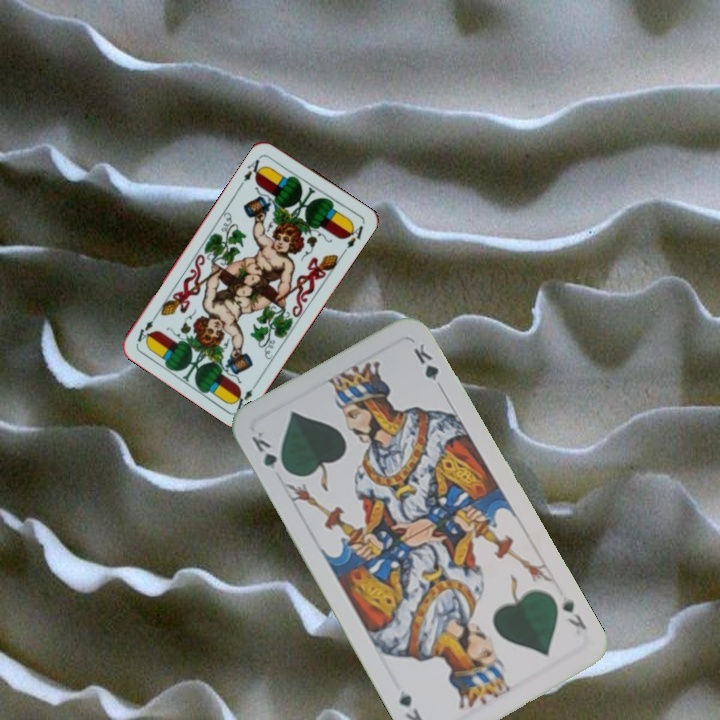EA: (230, 377, 261, 414), (236, 155, 266, 188)
GK: (247, 427, 291, 476), (558, 594, 590, 633)
